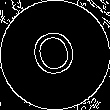O_S: (27, 24, 83, 86)
